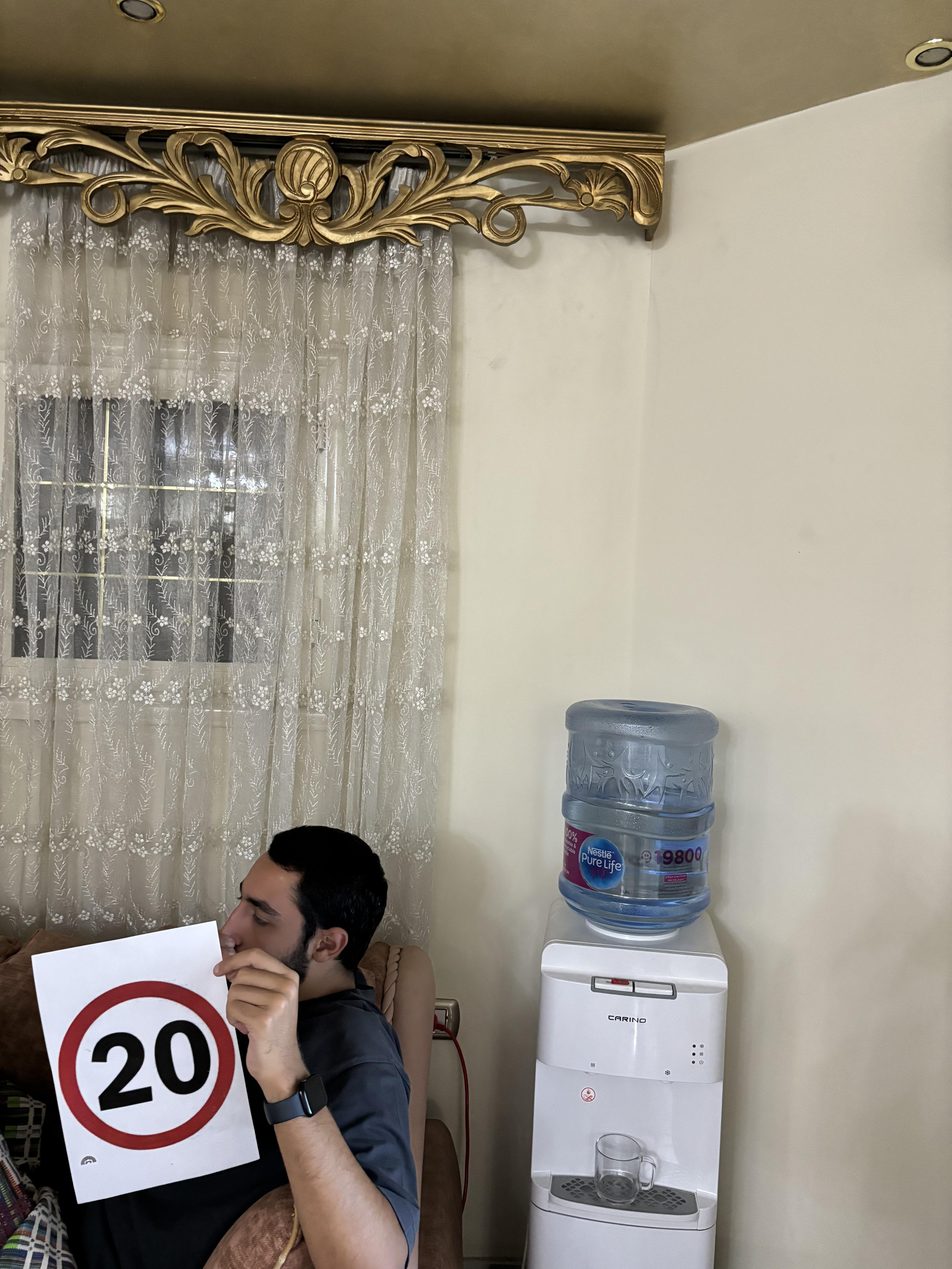20-Speed: (59, 980, 243, 1157)
